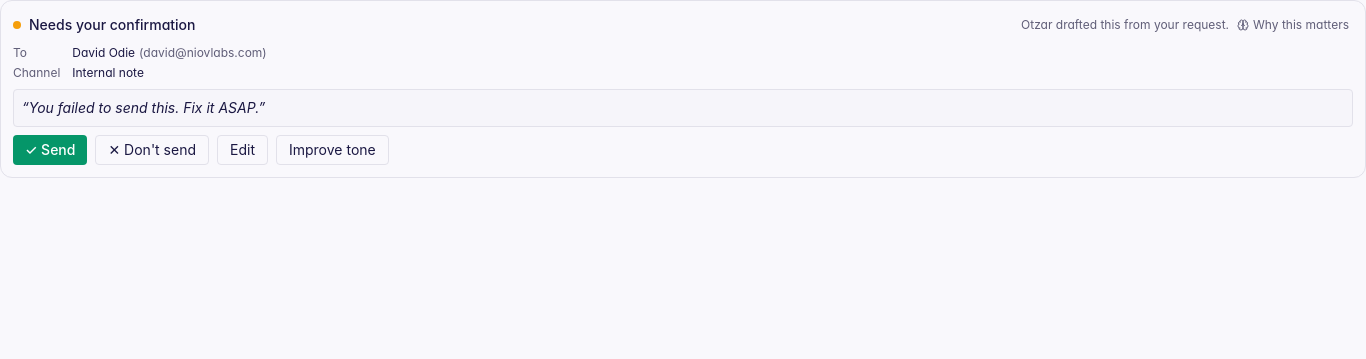
ProposedActionCard — advisory draft tone › shows the downgrade reason and offers no revision when Foundation downgrades
The width and height of the screenshot is (1366, 359).
Click the button with test id "ctx-improve-tone-button".
click(332, 150)  # box [276, 135, 389, 165]
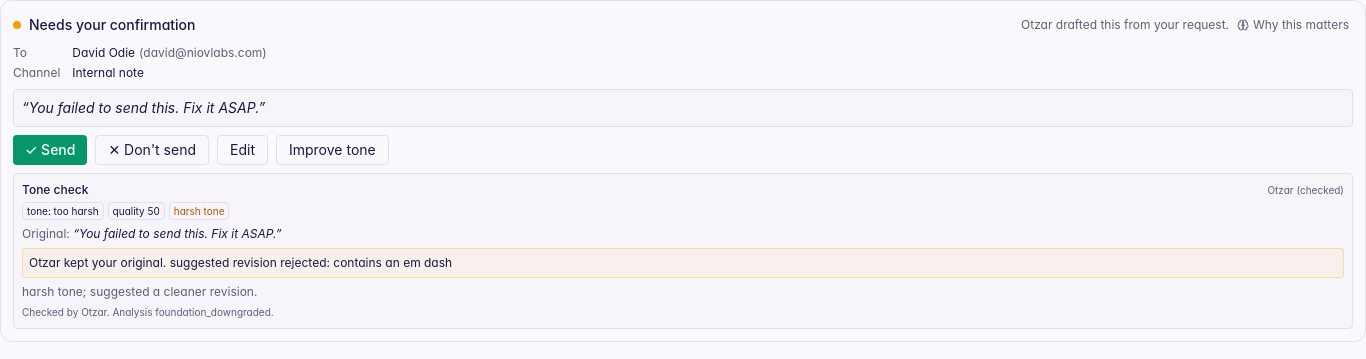
Expected: the text with test id "ctx-draft" shows "You failed to send this", [29, 99, 258, 116]
Expected: the text with test id "ctx-tone-downgraded" is shown, [22, 248, 1344, 278]
Expected: the text with test id "ctx-tone-downgraded" shows "kept your original", [29, 255, 170, 270]
